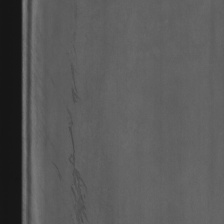water_spot: (61, 59, 97, 222)
